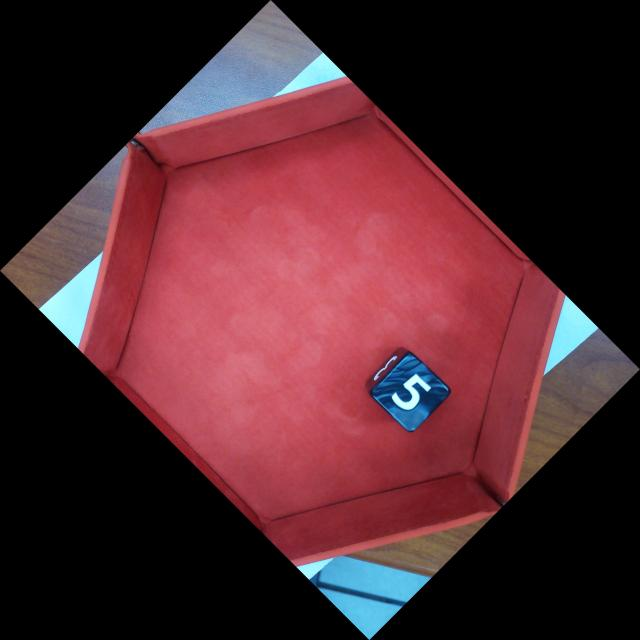dice: (366, 350, 452, 436)
